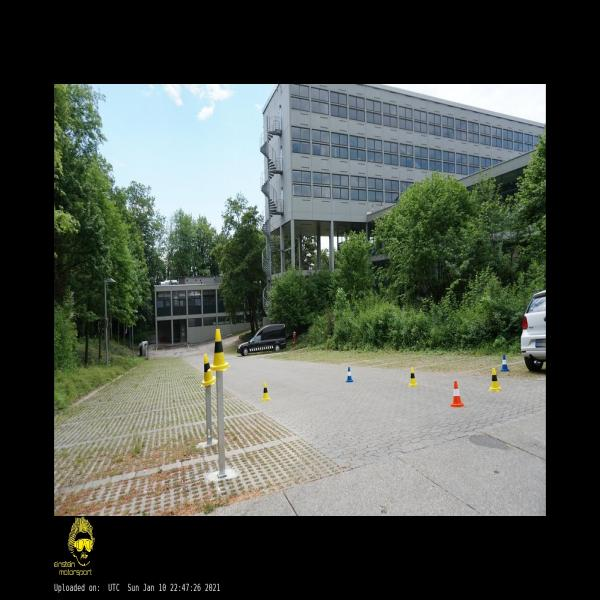blue_cone: (500, 354, 510, 372), (346, 366, 354, 382)
orange_cone: (450, 380, 464, 407)
yellow_cone: (206, 329, 230, 370), (201, 354, 217, 386), (488, 368, 502, 391), (261, 381, 271, 400), (408, 367, 418, 386)
